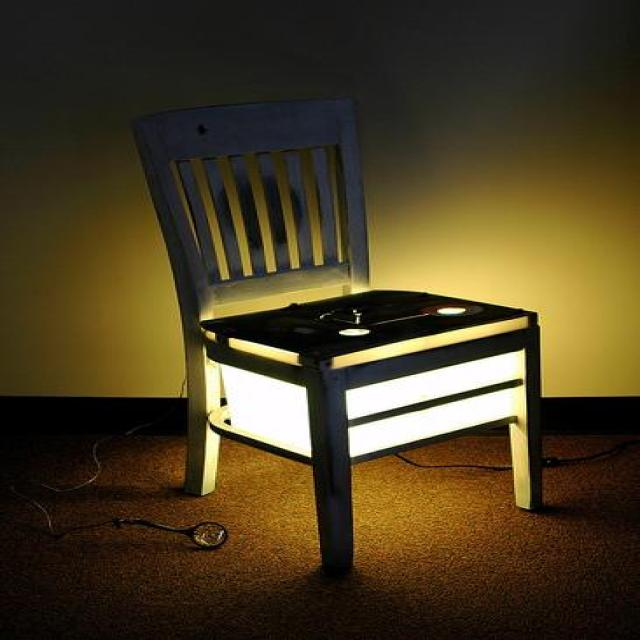chair: (128, 94, 546, 576)
